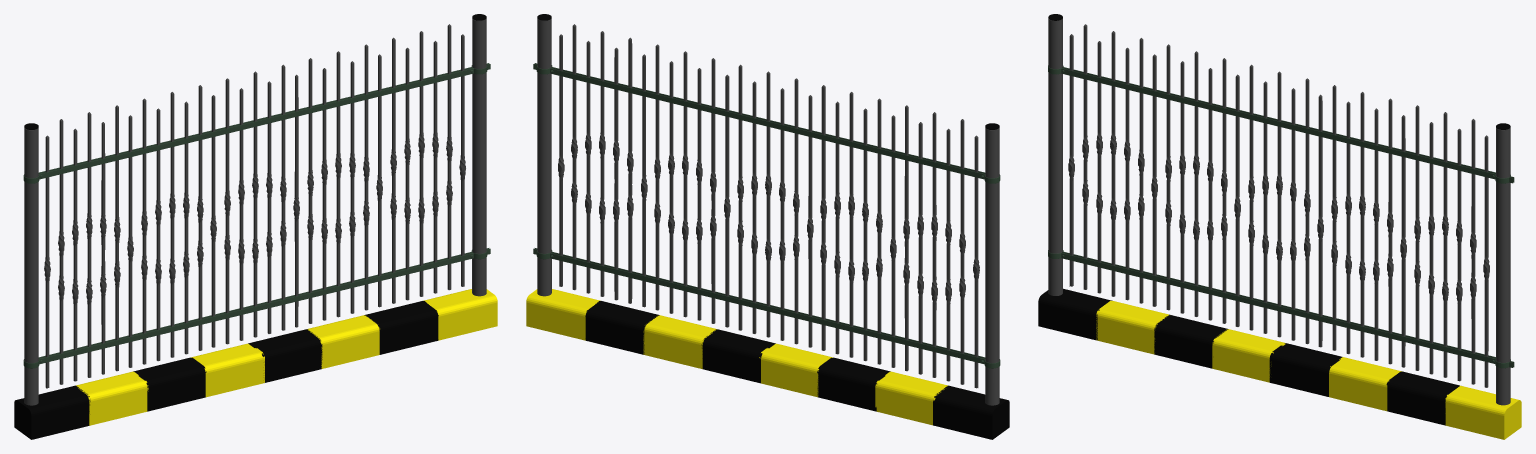
File: pagerbesiwbeton.fbx
3 renders of one model, left to right at view 1: azimuth 30°, elevation 25°; view 2: azimuth 150°, elevation 25°; view 3: azimuth 330°, elevation 25°, orthographic.
Parts seen in each view (by area): view 1: Iron fence, Cube.008, Cube.002, Cube.006, Cube.005, Cube.007, Cube.003, Cube.004, Cube.001; view 2: Iron fence, Cube.008, Cube.002, Cube.003, Cube.004, Cube.006, Cube.007, Cube.005, Cube.001; view 3: Iron fence, Cube.001, Cube.004, Cube.002, Cube.006, Cube.007, Cube.003, Cube.005, Cube.008.
Boxes of the visible parts, x1,y1,x2,y2 form: Iron fence: [23, 14, 490, 405]; Cube.008: [14, 385, 90, 439]; Cube.002: [364, 301, 438, 354]; Cube.006: [133, 357, 206, 411]; Cube.005: [191, 343, 264, 397]; Cube.007: [76, 371, 148, 425]; Cube.003: [307, 315, 379, 368]; Cube.004: [248, 329, 322, 382]; Cube.001: [423, 289, 497, 340]; Iron fence: [533, 14, 1000, 405]; Cube.008: [933, 385, 1009, 439]; Cube.002: [585, 301, 659, 354]; Cube.003: [643, 315, 717, 368]; Cube.004: [701, 329, 775, 383]; Cube.006: [817, 357, 890, 411]; Cube.007: [875, 371, 947, 425]; Cube.005: [759, 343, 832, 397]; Cube.001: [526, 289, 600, 340]; Iron fence: [1048, 14, 1514, 405]; Cube.001: [1445, 385, 1521, 439]; Cube.004: [1269, 343, 1342, 396]; Cube.002: [1386, 371, 1459, 425]; Cube.006: [1154, 314, 1228, 368]; Cube.007: [1096, 300, 1168, 354]; Cube.003: [1329, 357, 1401, 411]; Cube.005: [1212, 329, 1285, 382]; Cube.008: [1038, 288, 1112, 340].
Size of the model in its own units: 260 by 162 by 16.68.
